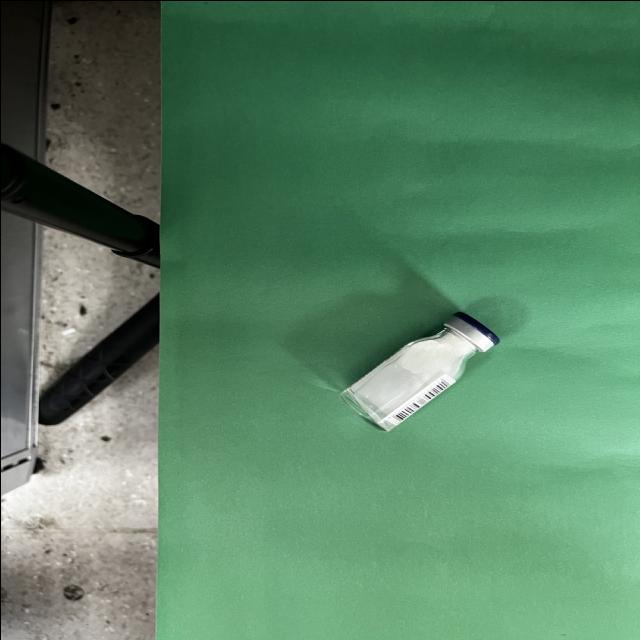Vials: (340, 312, 497, 430)
